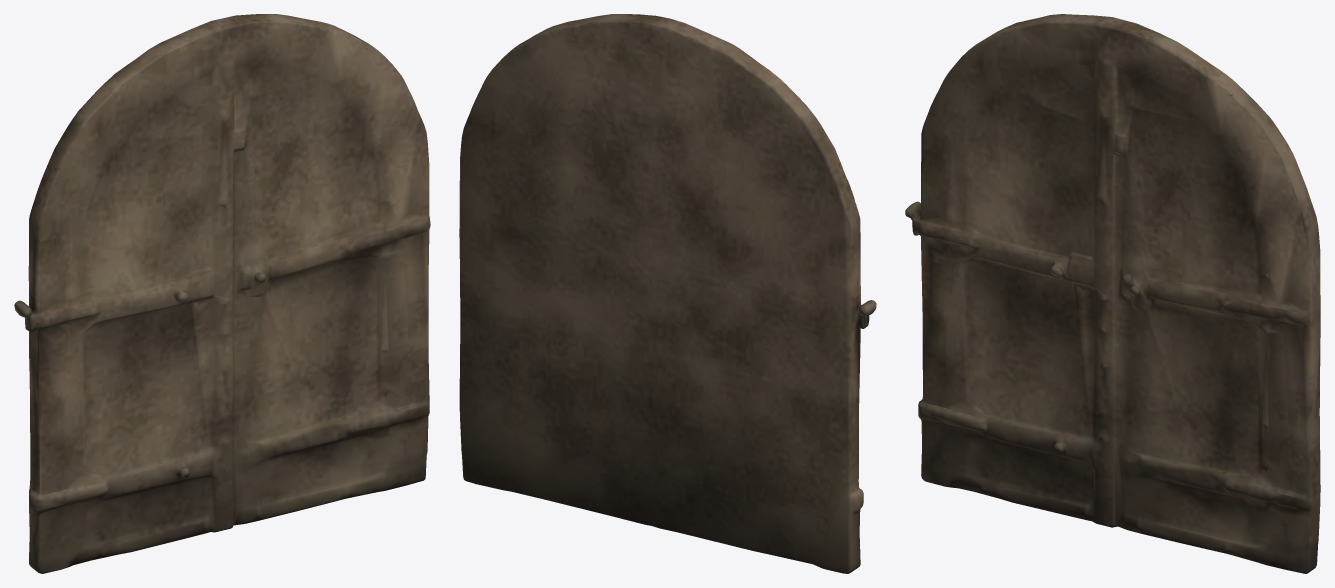
Rendered from worn-wood-castle-door-v001.glb.
3 renders of one model, left to right at view 1: azimuth 30°, elevation 25°; view 2: azimuth 150°, elevation 25°; view 3: azimuth 330°, elevation 25°, orthographic.
Parts seen in each view (by area): view 1: worn-wood-castle-door; view 2: worn-wood-castle-door; view 3: worn-wood-castle-door.
Boxes of the visible parts, box(x1,y1,x2,y2) form: worn-wood-castle-door: box(14, 14, 430, 573); worn-wood-castle-door: box(459, 14, 876, 573); worn-wood-castle-door: box(905, 14, 1320, 573).
Bounding box in the file's own units: 2.2 × 2.6 × 0.1526.
Materials: 1 (1 with a texture image).
